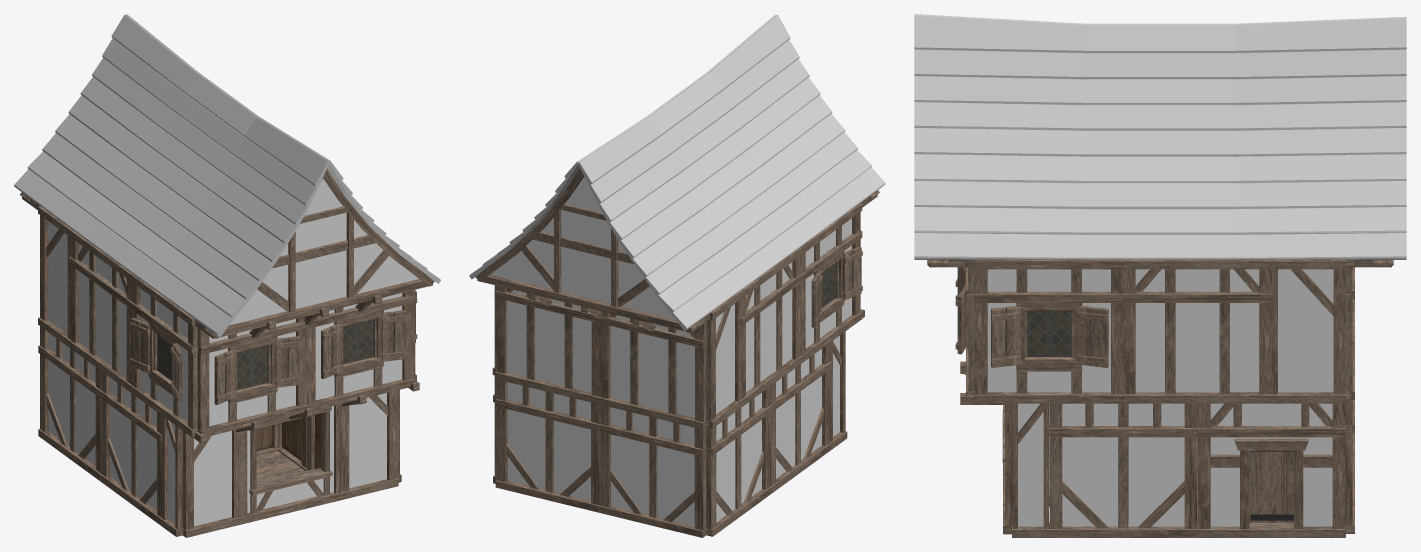
File: House_Shop_1A1.fbx
3 renders of one model, left to right at view 1: azimuth 30°, elevation 25°; view 2: azimuth 150°, elevation 25°; view 3: azimuth 270°, elevation 25°, orthographic. The views are drawn at different scales.
Parts seen in each view (by area): view 1: House_Shop_1A1; view 2: House_Shop_1A1; view 3: House_Shop_1A1.
Boxes of the visible parts, left/top/right/bottom form: House_Shop_1A1: left=14, top=14, right=440, bottom=537; House_Shop_1A1: left=469, top=14, right=885, bottom=537; House_Shop_1A1: left=914, top=14, right=1406, bottom=537.
Bounding box in the file's own units: 906 × 1360 × 1329.
